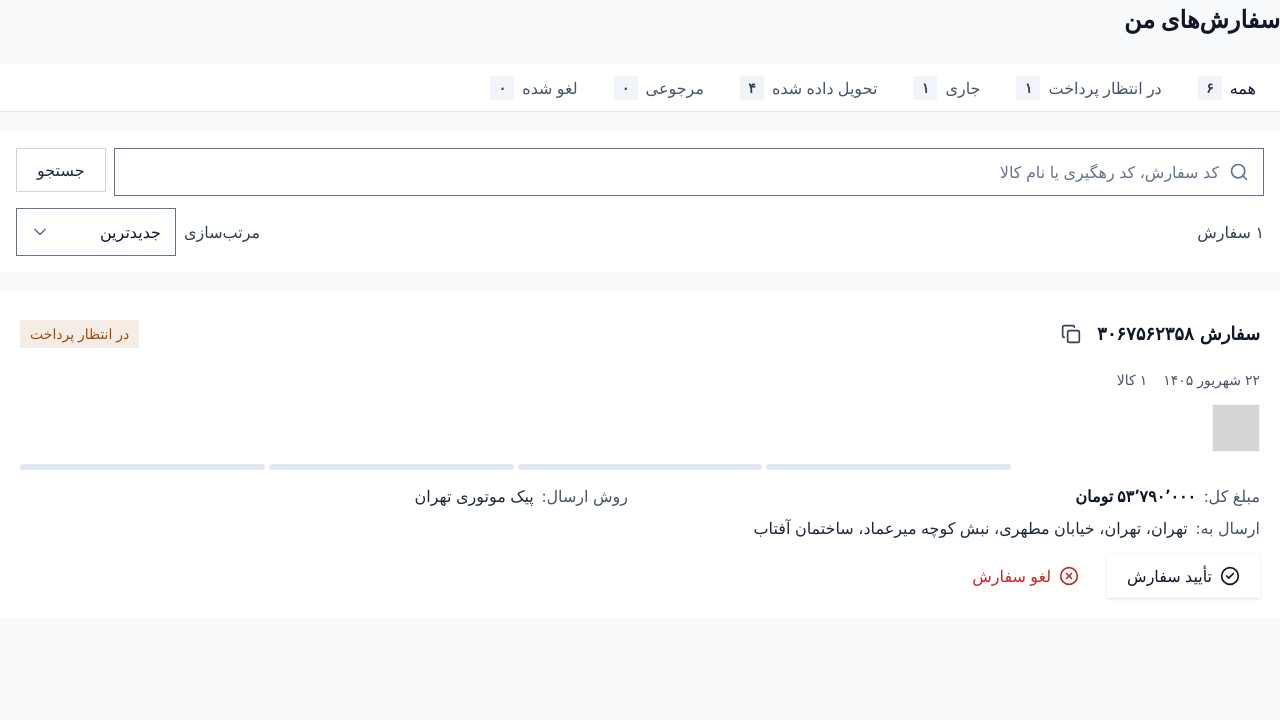
a confirmation from the pay sheet over the list, a bottom sheet (phones) › the list read again at once: the focus to the card’s heading, not <body>
Click the button "تأیید سفارش": (1184, 576) [1107, 554, 1260, 598]
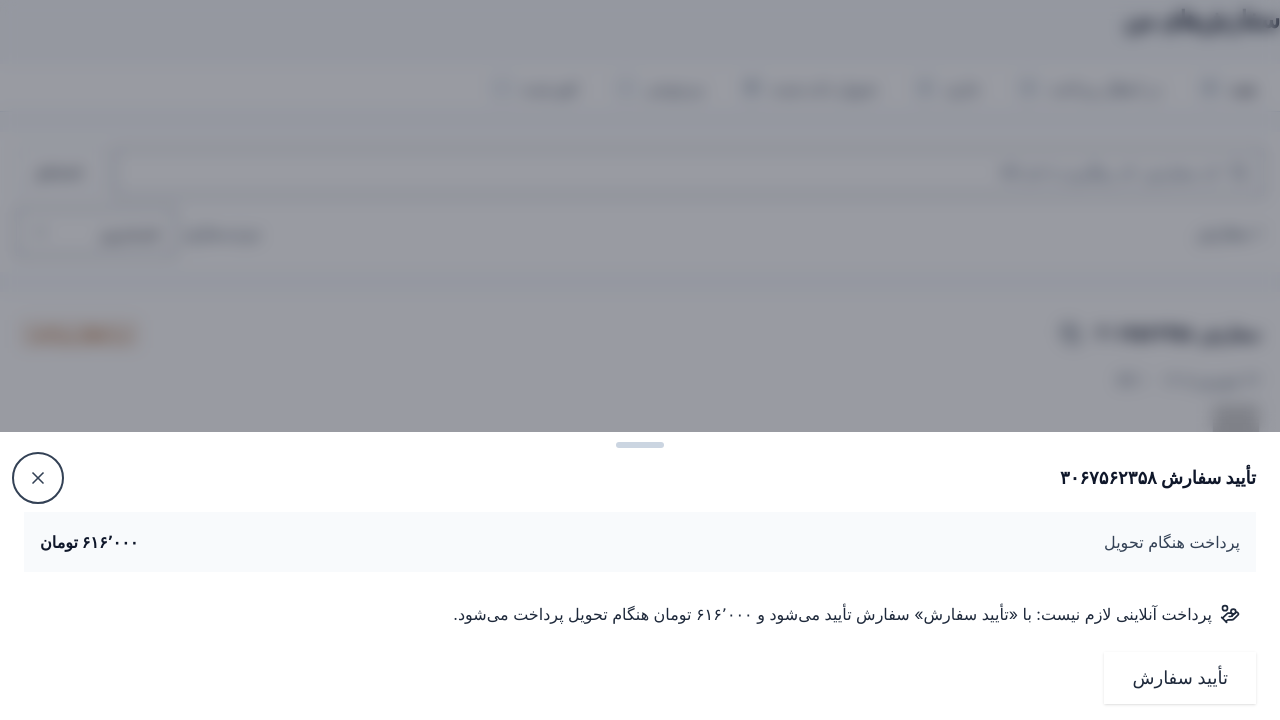
Click the button "تأیید سفارش": (1180, 678) [1104, 652, 1256, 704]
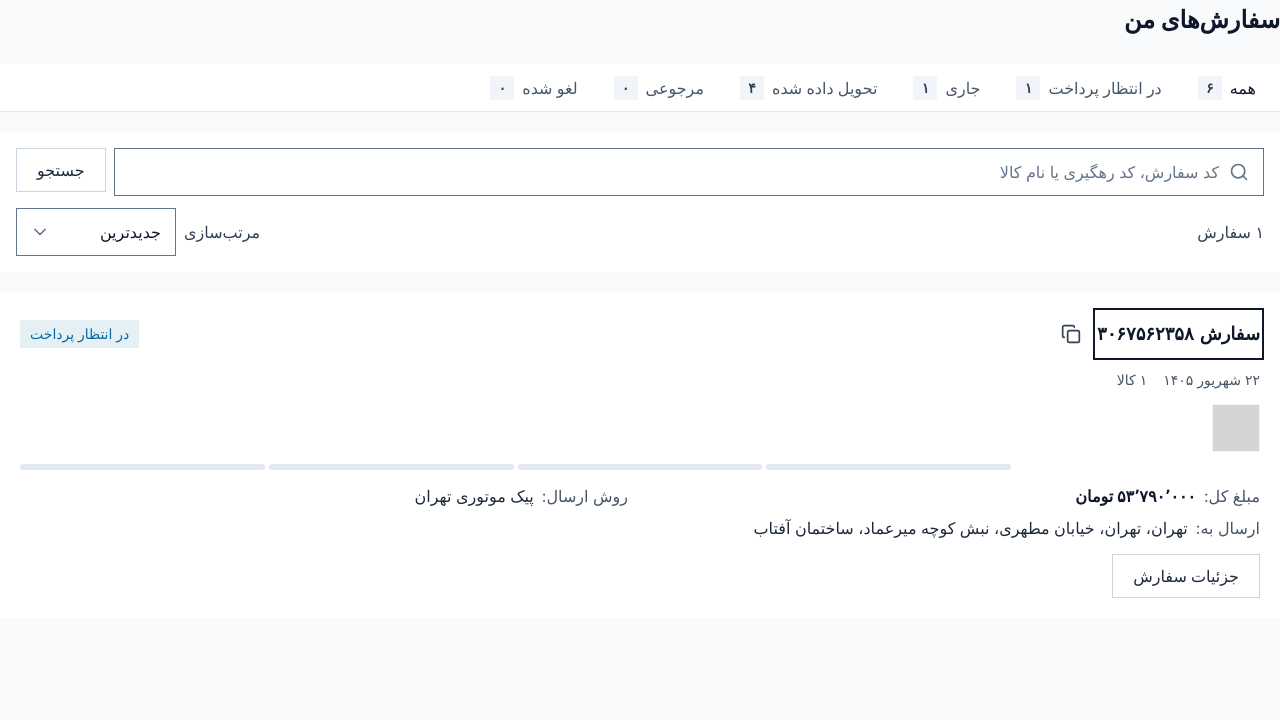
Expected: the dialog is gone
Expected: the button "تأیید سفارش" is gone
